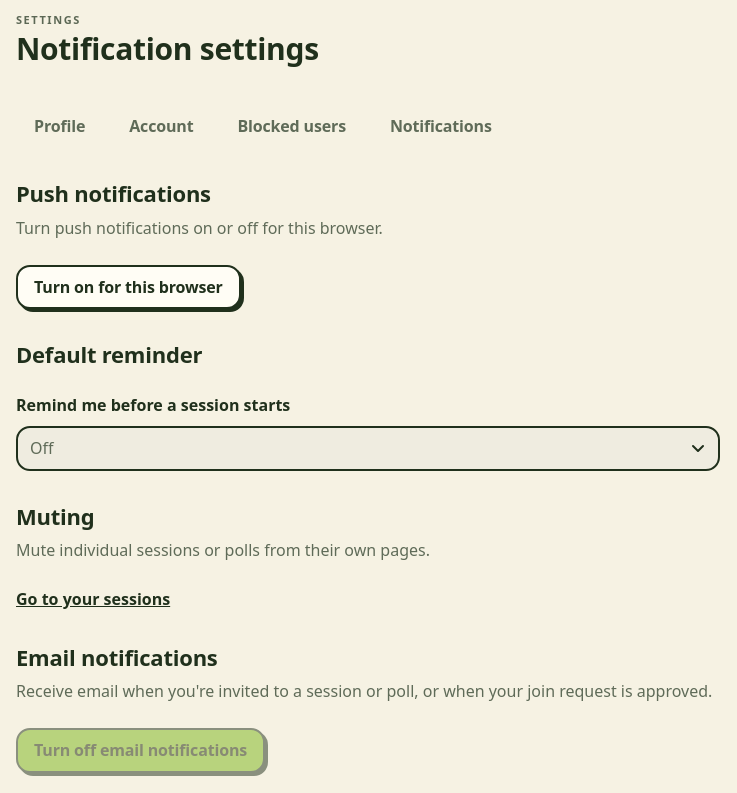
Scenario: NotificationSettingsPage — the three ruling-3 controls › turning push on requests permission, subscribes and POSTs — then reads as on
Click the button "Turn on for this browser": {"x": 128, "y": 287} [16, 265, 241, 309]
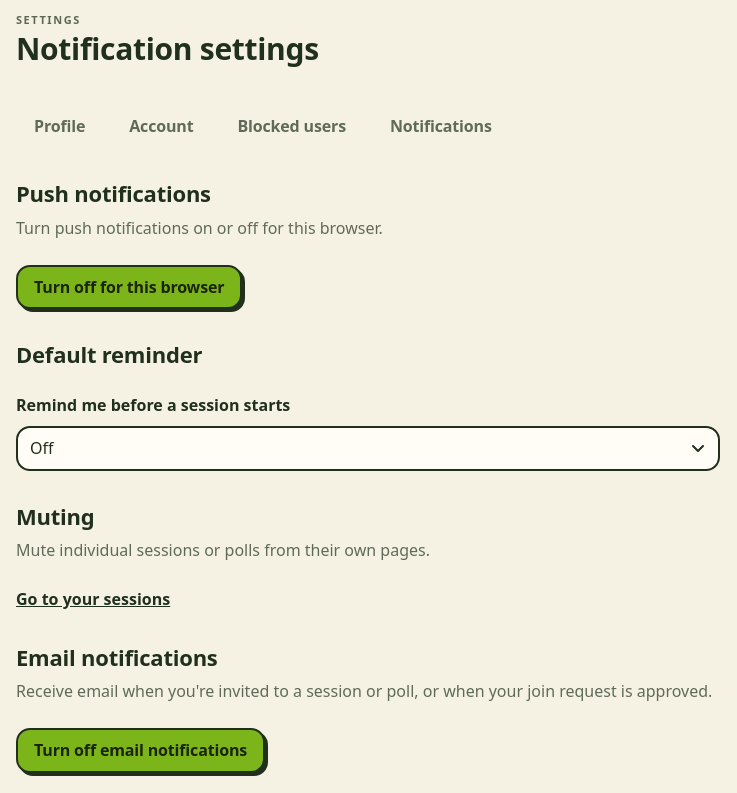
Expected: the button "Turn off for this browser" is shown, [16, 265, 242, 309]
